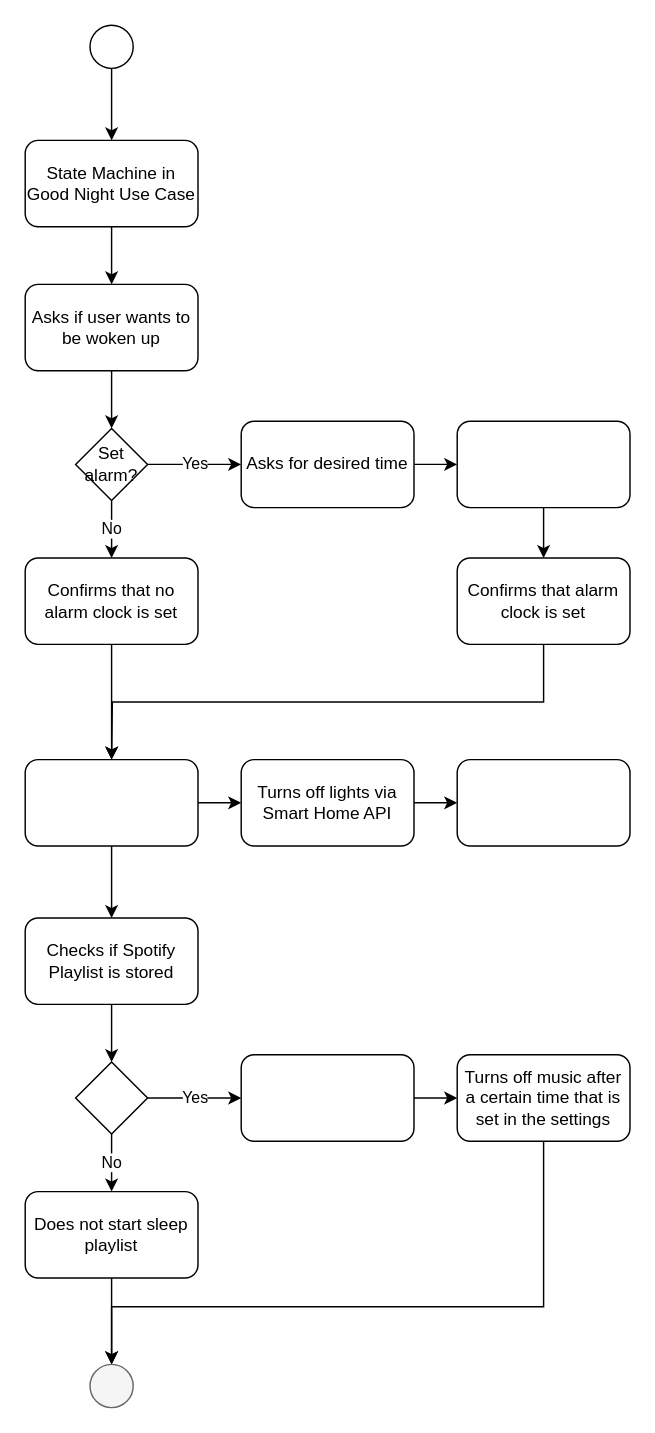
Some shapes in this 655 by 1433 pixel diagram are drawn without their labels. The shapes that lost their labels are listed below. From the top down, each one's centre as x and y in pixels, then its label:
At (x=543, y=464): "Sets the desired alarm clock".
At (x=111, y=802): "Wishes good night".
At (x=543, y=802): "Sets temperature via Smart Home API".
At (x=111, y=1097): "Playlist stored?".
At (x=327, y=1097): "Startes playlist via Spotify API".
